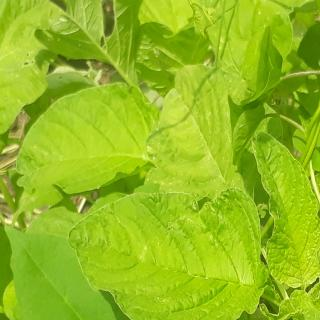virus_keriting: (172, 186, 245, 227), (144, 134, 168, 183)
